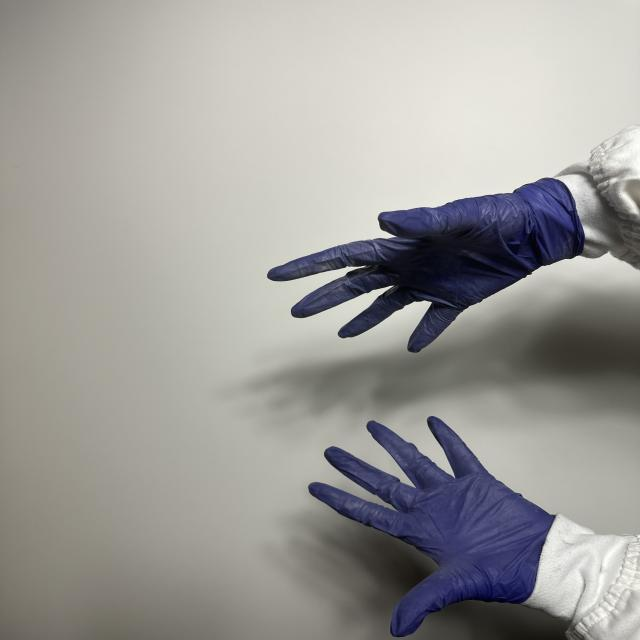gloves_contaminated: (267, 178, 584, 352), (309, 417, 553, 636)
